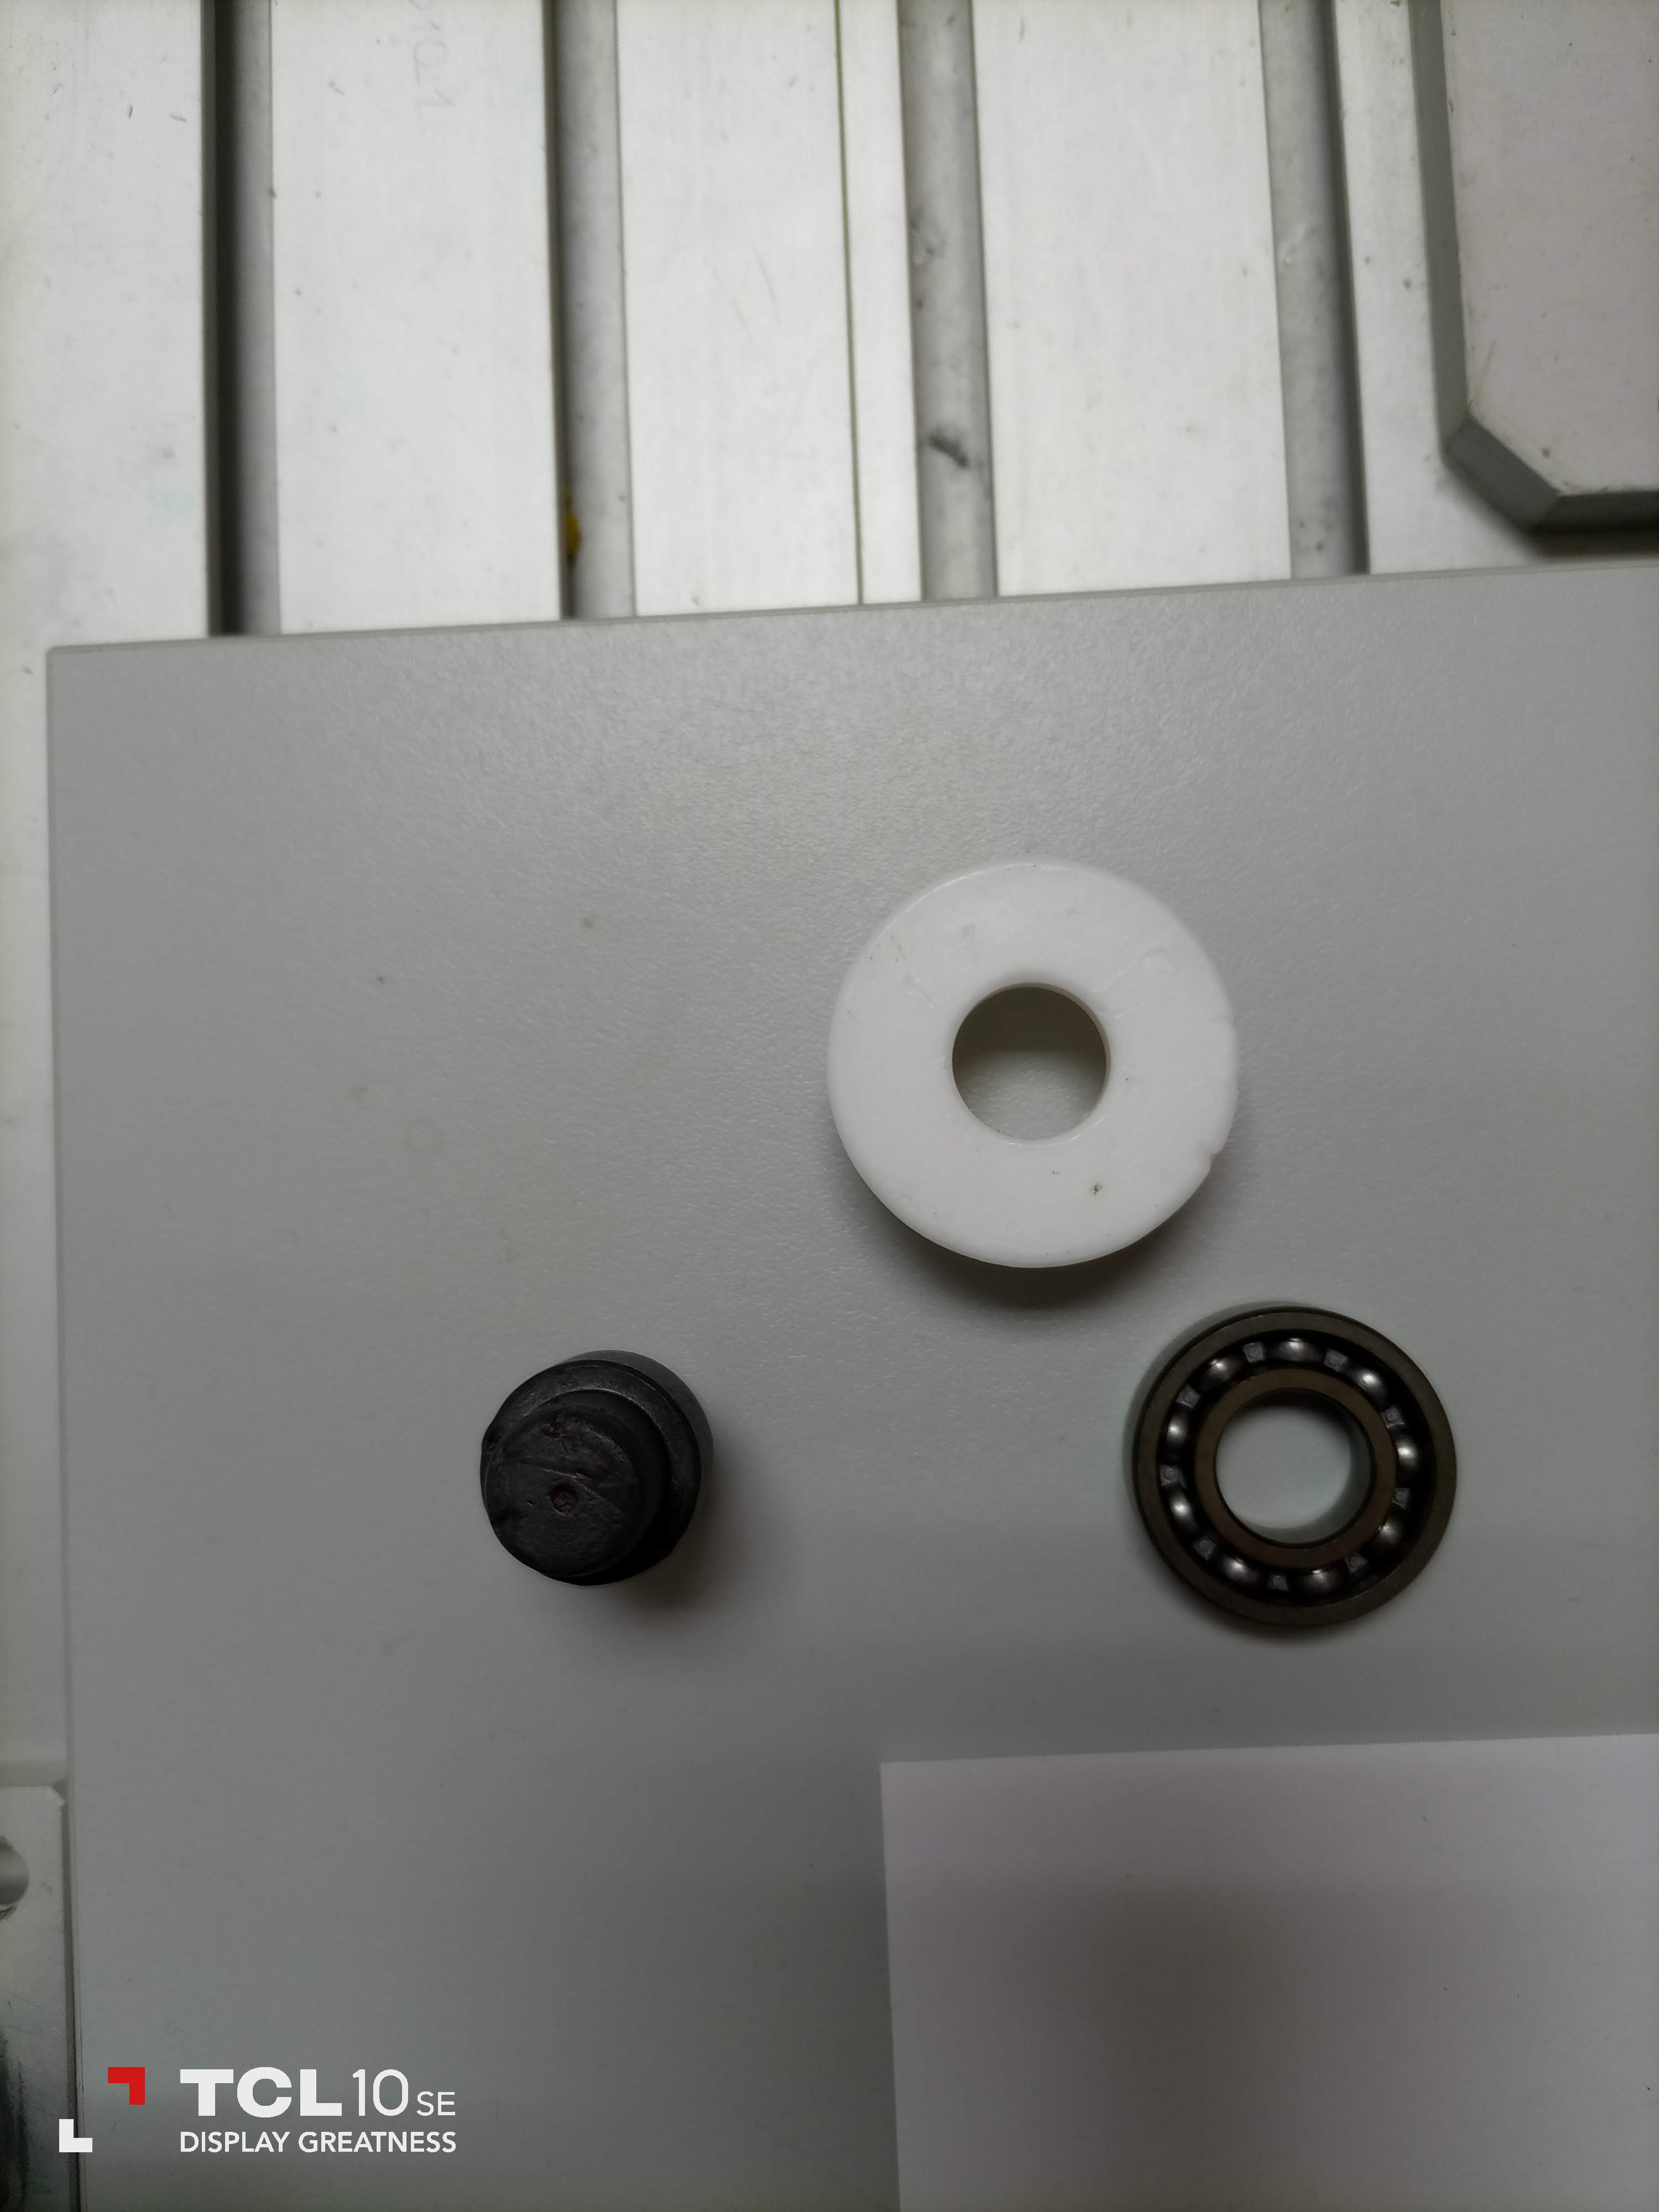Ardatza: (465, 1345, 730, 1585)
Roda: (1131, 1320, 1460, 1618)
Tapa: (823, 862, 1239, 1284)
